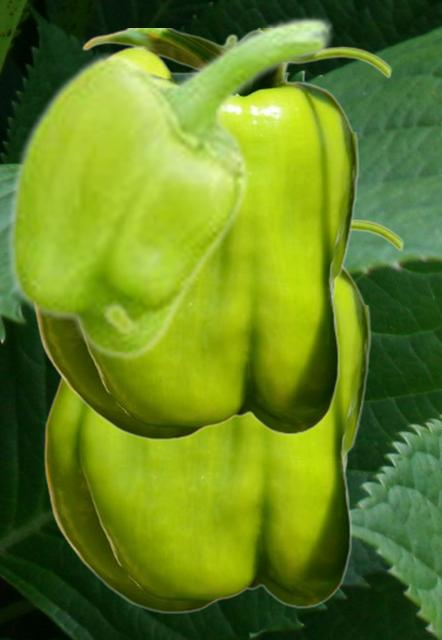bell_pepper: (33, 28, 391, 440), (43, 217, 403, 613), (5, 14, 334, 360)
